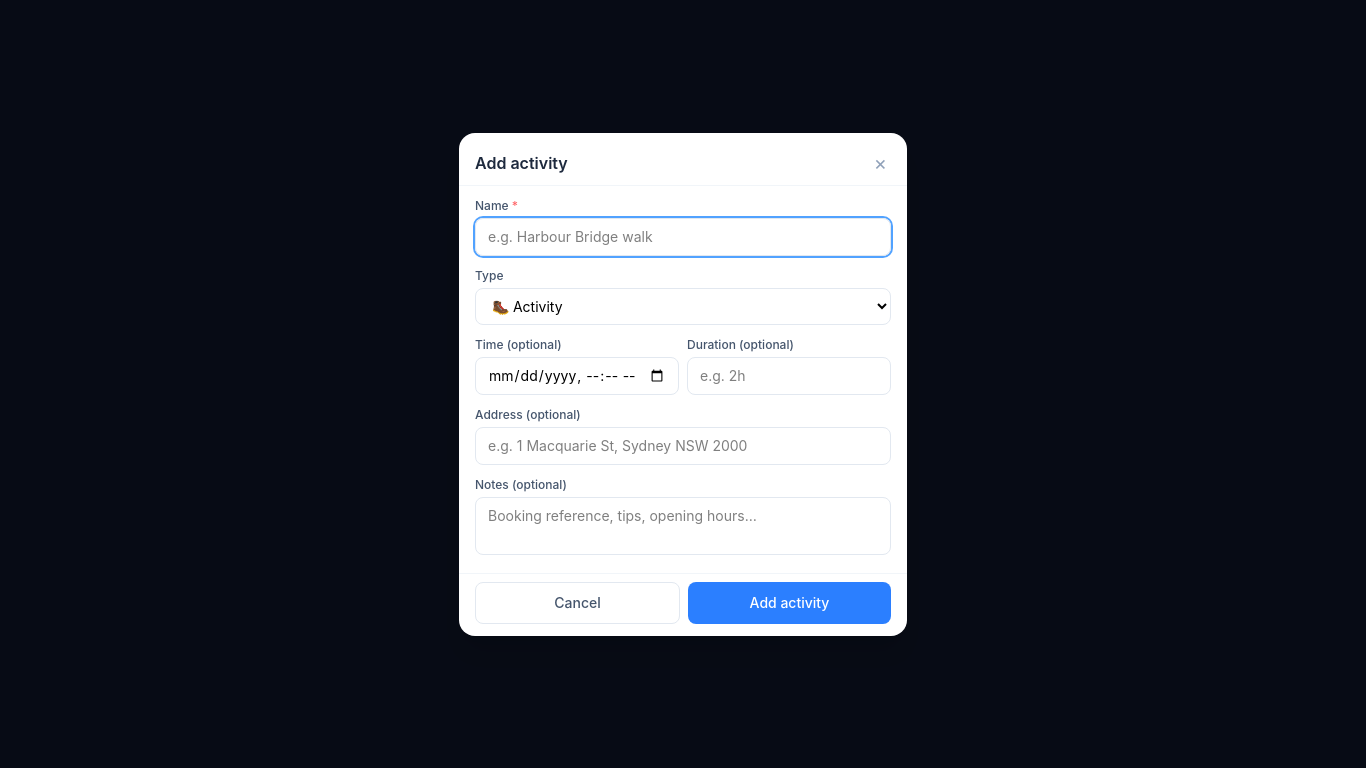
Test case: AddEditActivityModal — layout & visibility › shows error when submitting with empty name
This screenshot has width=1366, height=768.
Click the button "Add activity".
click(790, 602)  # box [688,582,891,624]
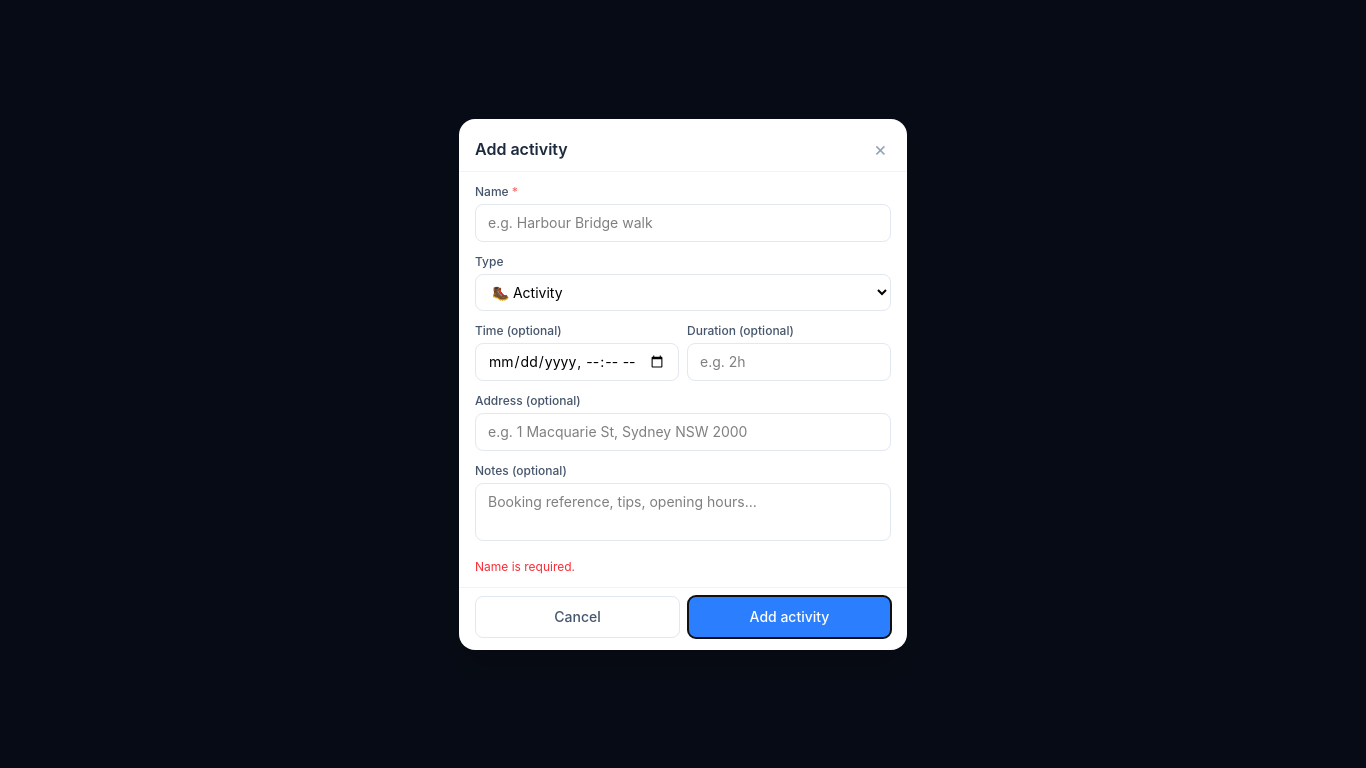
Result: the text "Name is required." is shown at [475,558,575,574]
